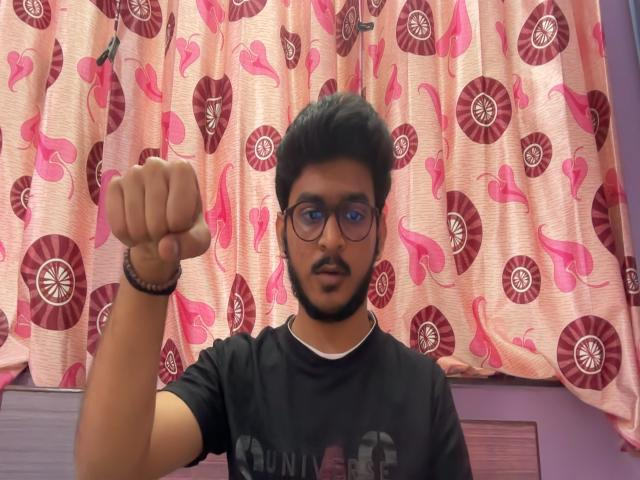Yes: (100, 148, 216, 281)
